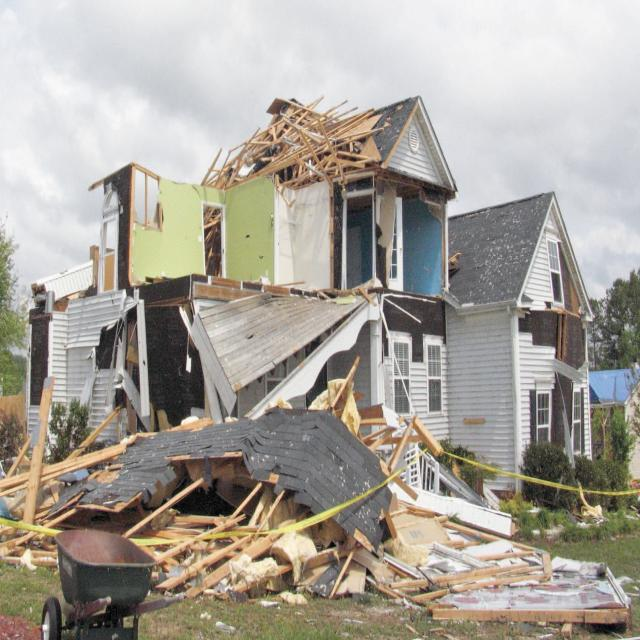Severely_Damaged: (24, 92, 455, 520), (468, 188, 597, 504)
